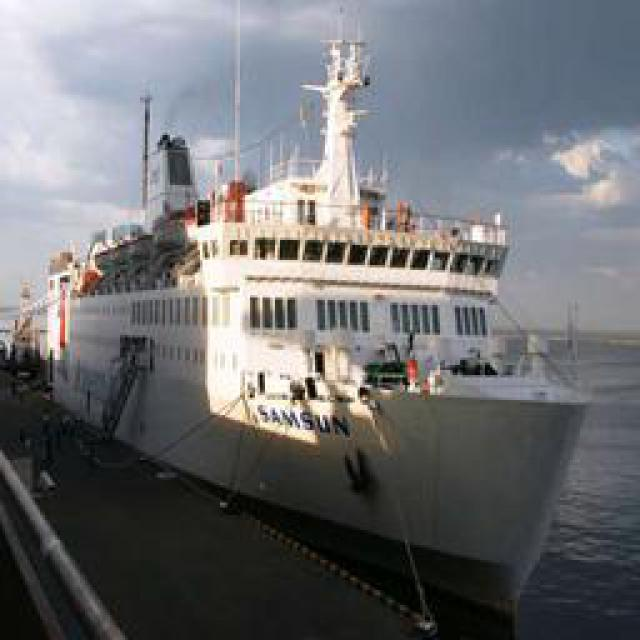Ship: (25, 31, 595, 611)
